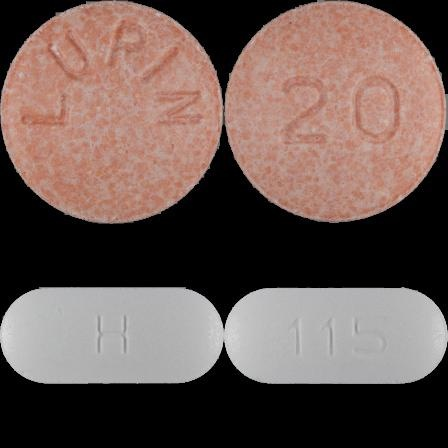67046-427: (0, 0, 224, 224)
